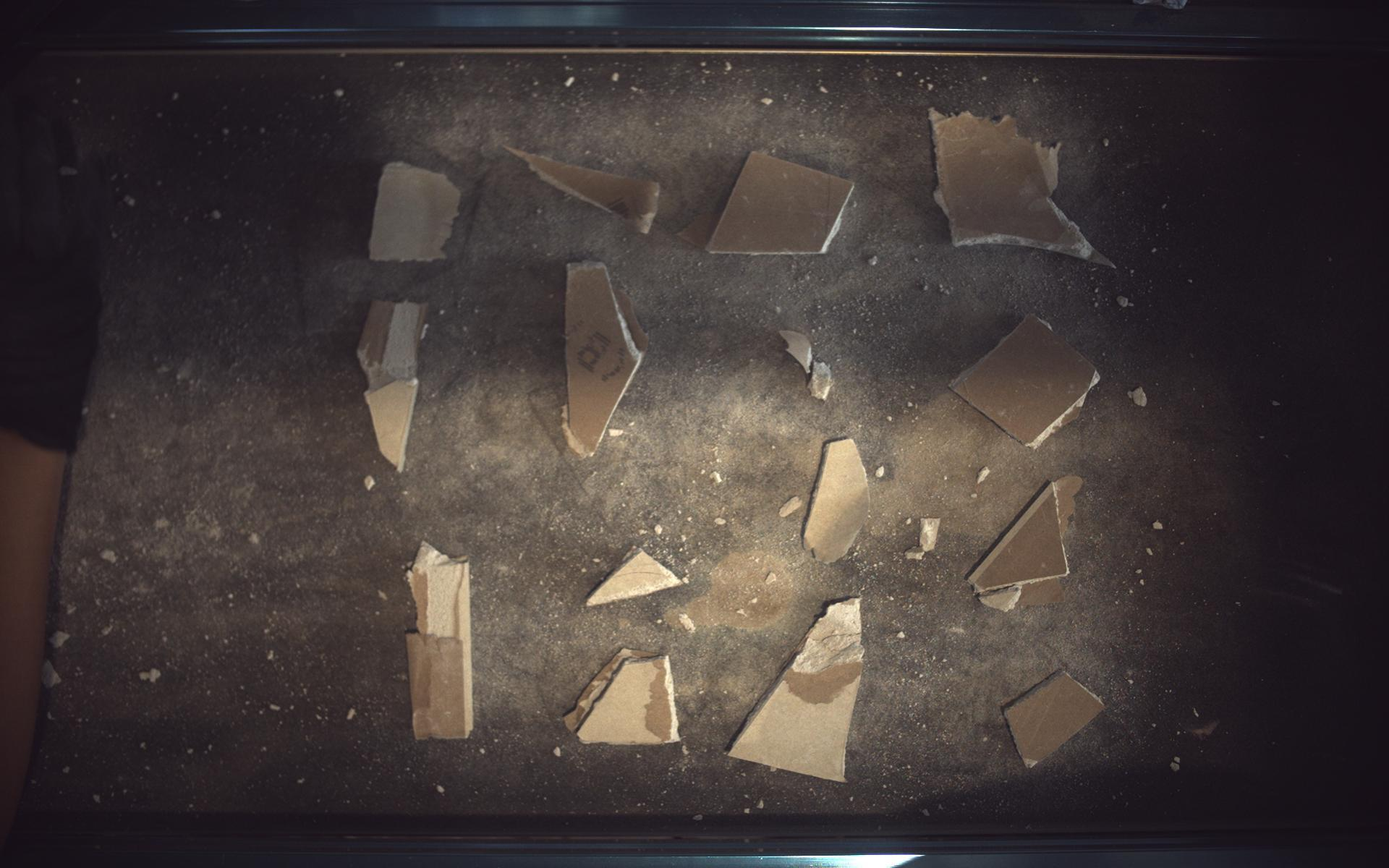gypsum_board: (932, 108, 1116, 266), (730, 599, 866, 783), (952, 314, 1103, 448), (679, 150, 855, 254), (562, 261, 650, 458), (970, 475, 1085, 613), (506, 145, 660, 233), (406, 542, 474, 741), (357, 300, 428, 472), (564, 650, 680, 746), (1006, 671, 1108, 769), (369, 161, 460, 260), (805, 438, 870, 563), (587, 550, 684, 607), (780, 330, 834, 400)
